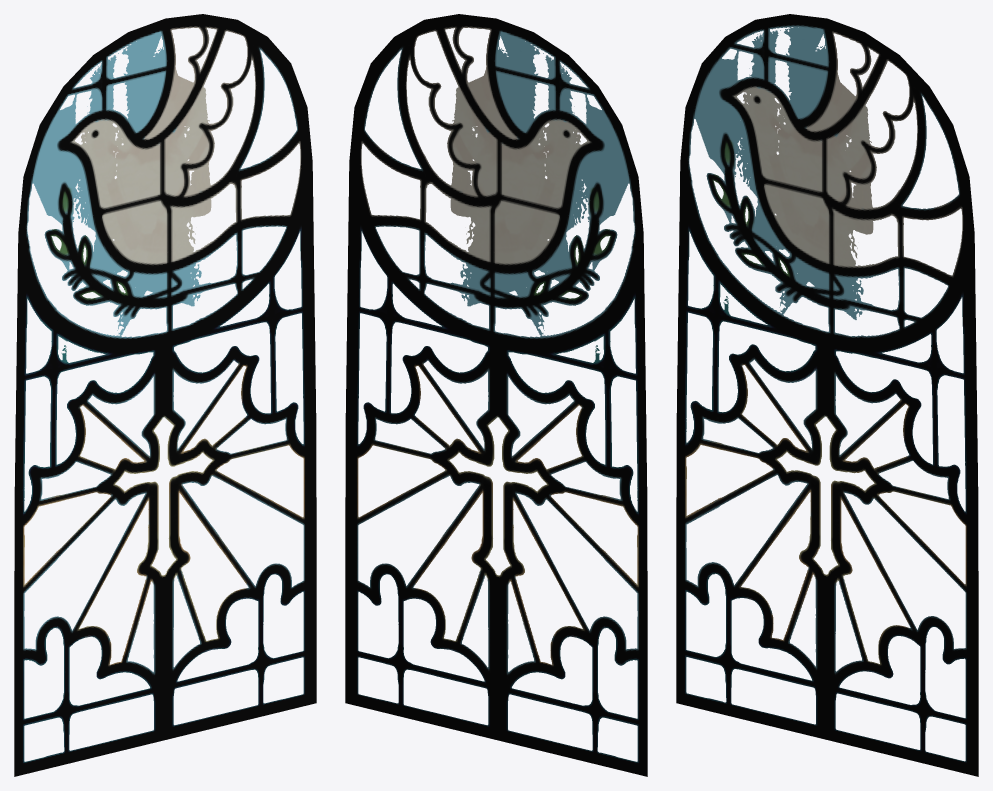
File: SM_WindowPane_Dove.fbx
3 renders of one model, left to right at view 1: azimuth 30°, elevation 25°; view 2: azimuth 150°, elevation 25°; view 3: azimuth 330°, elevation 25°, orthographic.
Visible parts, largest first — view 1: SM_WindowPane_Dove; view 2: SM_WindowPane_Dove; view 3: SM_WindowPane_Dove.
Boxes of the visible parts, x1,y1,x2,y2 form: SM_WindowPane_Dove: (14, 14, 316, 776); SM_WindowPane_Dove: (345, 14, 647, 776); SM_WindowPane_Dove: (676, 14, 978, 776).
Bounding box in the file's own units: 44.45 × 101 × 2.39e-05.
